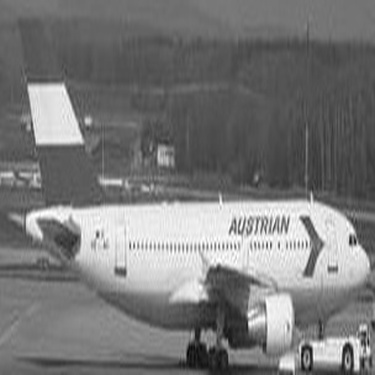airplane: (4, 1, 371, 371)
